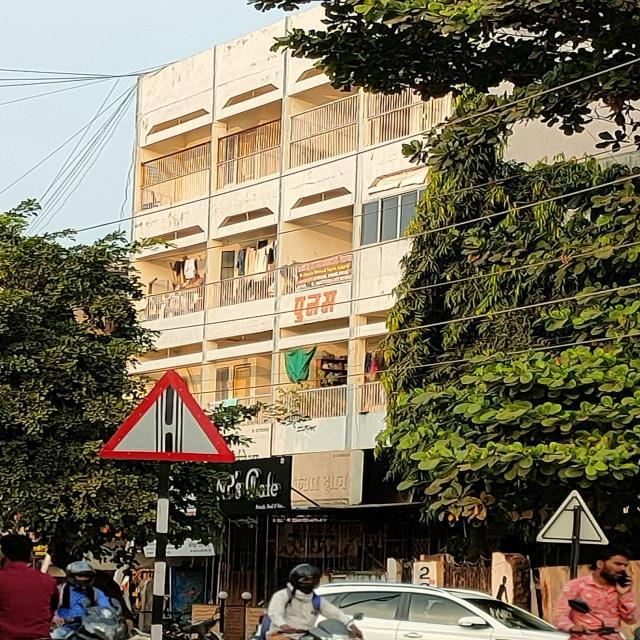gap in median: (93, 366, 236, 465)
